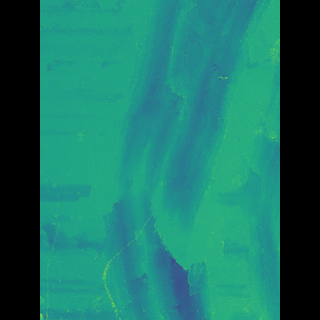Loch: (104, 0, 250, 320)
